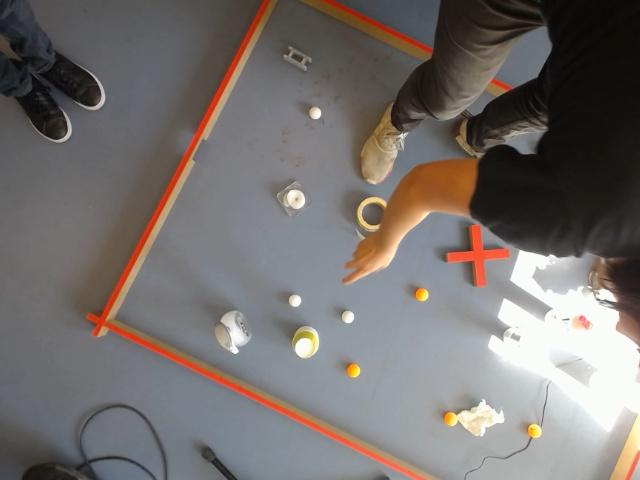orange: (413, 288, 430, 302), (346, 363, 360, 378), (527, 424, 541, 439), (444, 411, 456, 426)
white: (340, 308, 356, 326), (306, 106, 324, 122), (287, 293, 303, 309)
